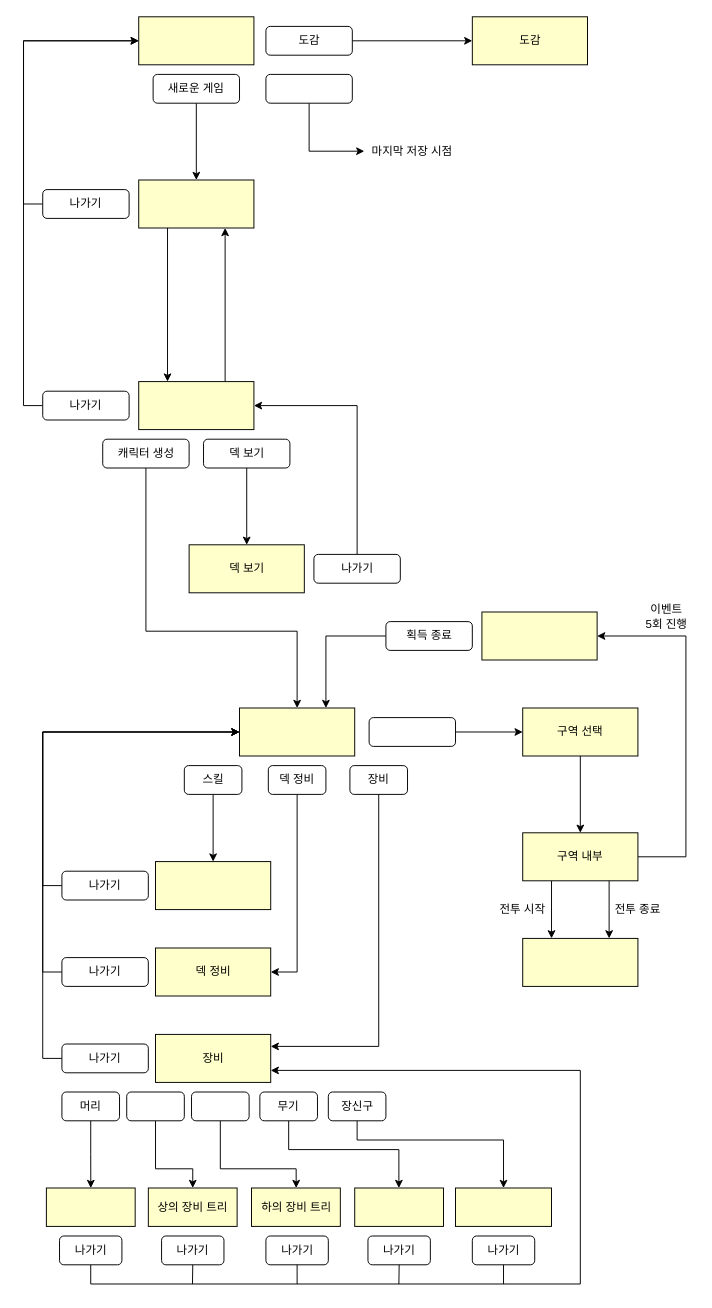
Image size: 712x1308. Some labels were removed from this diagram. The shapes that lost their labels are listed below. From the top down, each one's centre as x and y in pixels, then its label:
At (196,40): "메인 화면".
At (308,88): "이어하기".
At (196,203): "캐릭터 생성 (초상화 & 스텟)".
At (196,405): "캐릭터 생성 (기본 덱 선택)".
At (539,635): "카드 획득".
At (297,731): "캐릭터 정비 (메인 화면)".
At (412,731): "모험 시작".
At (213,885): "스킬 트리".
At (580,961): "전투".
At (155,1106): "상의".
At (220,1106): "하의".
At (90,1206): "머리 장비 트리".
At (399,1206): "무기 장비 트리".
At (503,1206): "장신구 장비 트리".
